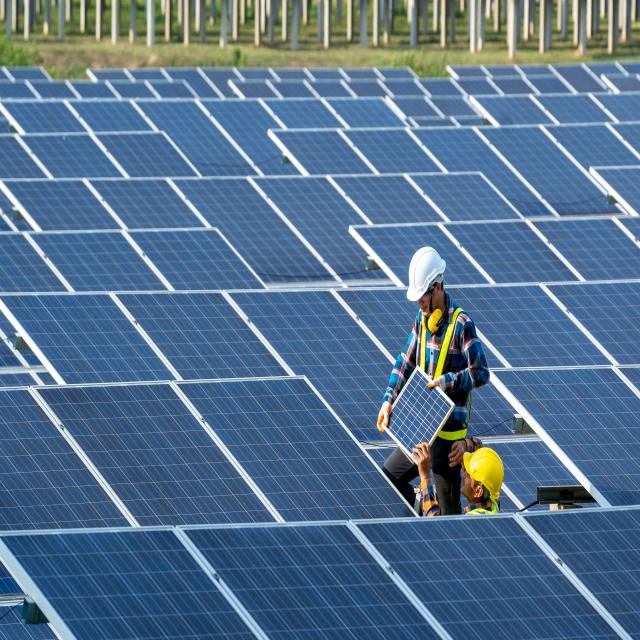clean-solar-panel: (0, 60, 640, 638)
